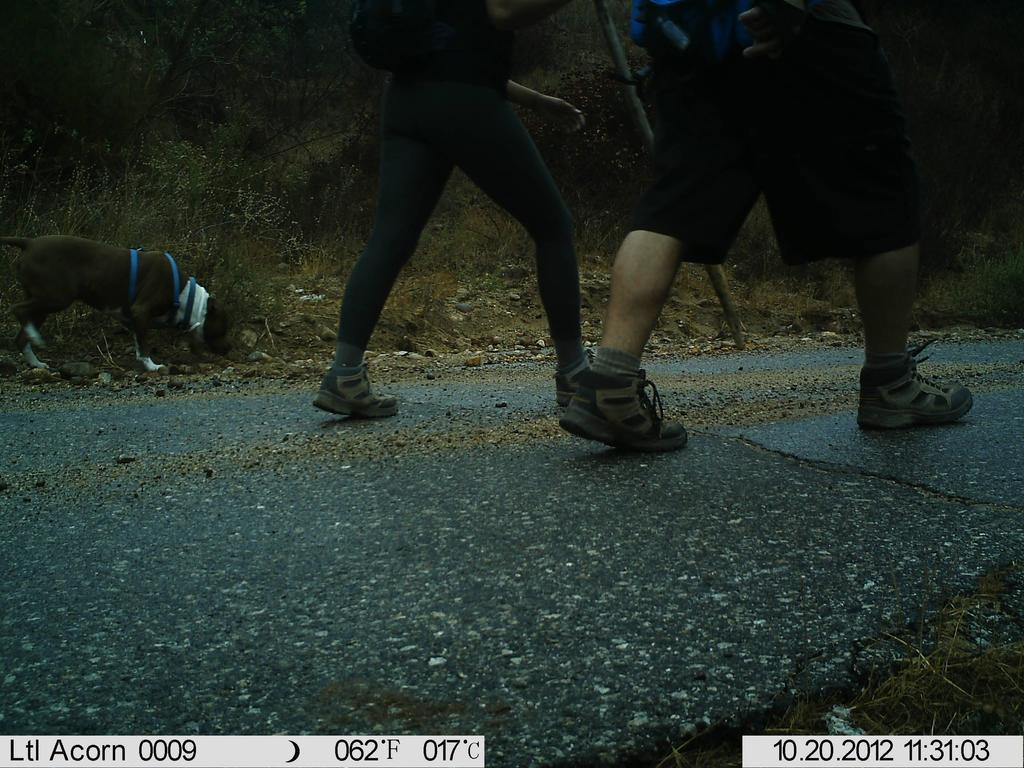dog: (7, 225, 240, 374)
